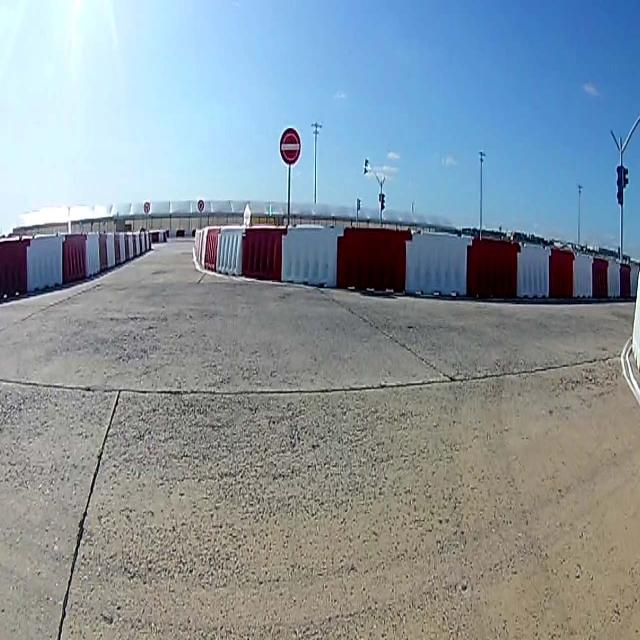girisyok: (281, 132, 300, 162)
